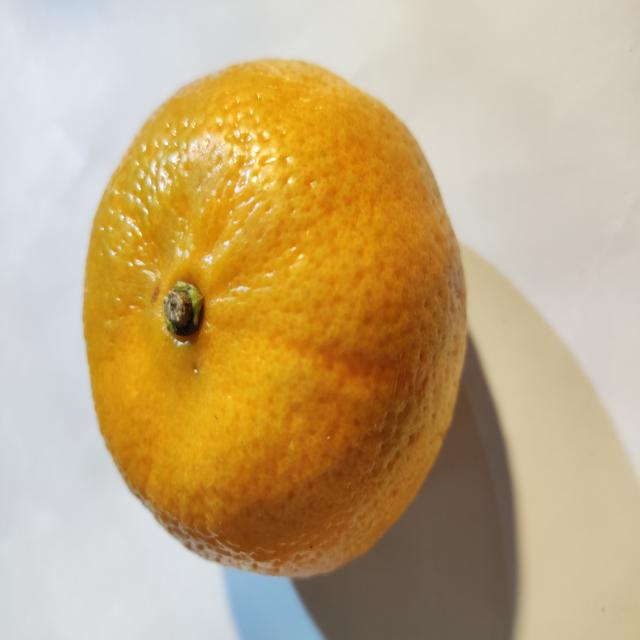orange: (84, 61, 465, 575)
